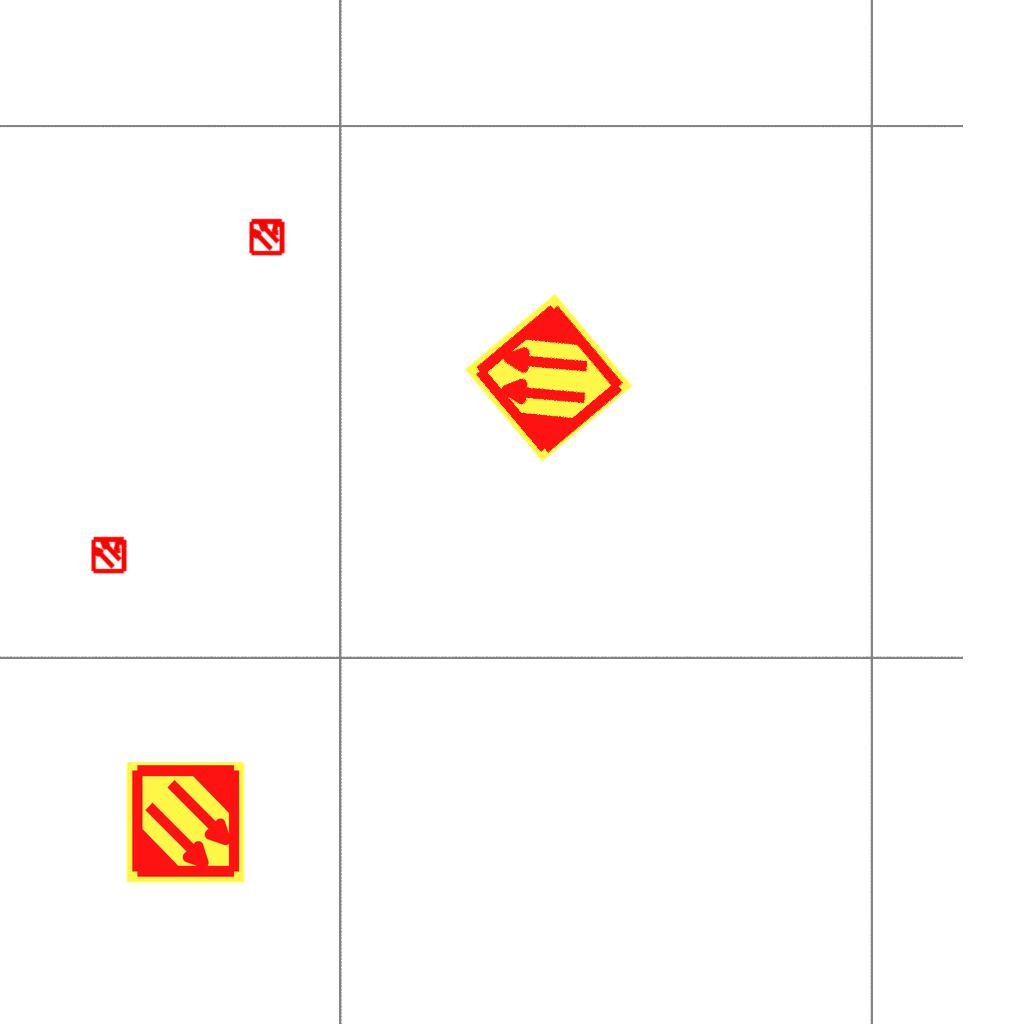ASR_Ansaugrauchmelder: (460, 289, 637, 466), (123, 760, 248, 885)
OT_Multisensormelder_(Kombination_RMO_WMD): (239, 208, 295, 264), (81, 526, 137, 582)
